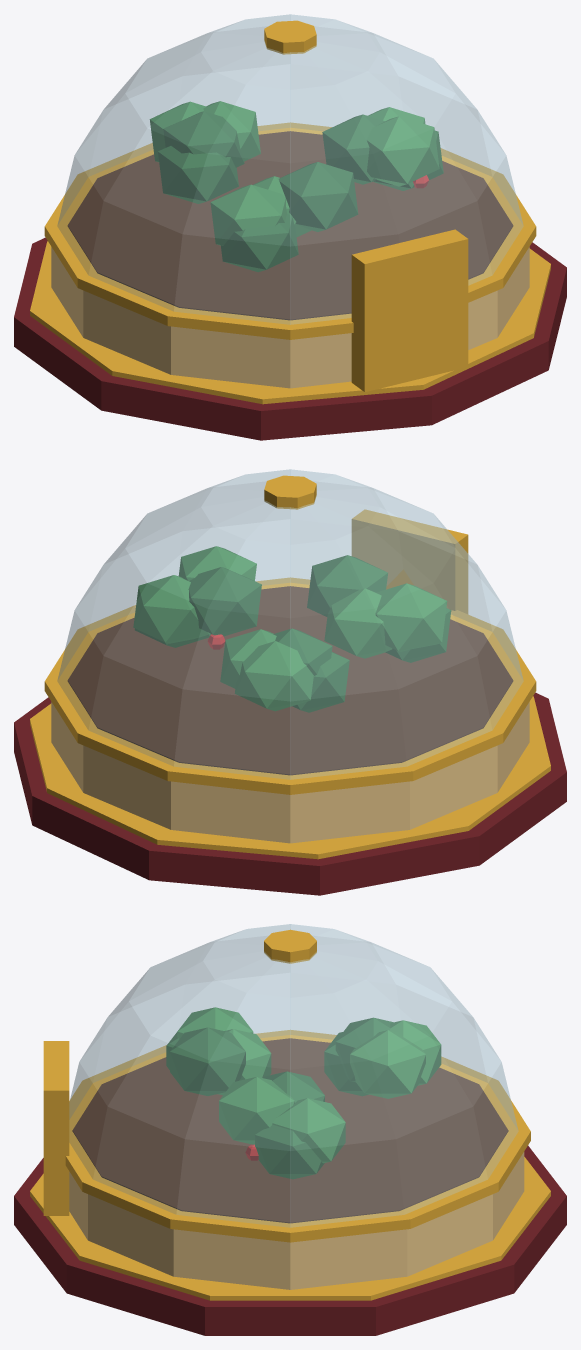
File: estufa-n1.glb
3 views of the same model, one above another, from view 1: azimuth 30°, elevation 25°; view 2: azimuth 150°, elevation 25°; view 3: azimuth 270°, elevation 25° (orthographic). The views are drawn at different scales.
Parts seen in each view (by area): view 1: estufa-n1; view 2: estufa-n1; view 3: estufa-n1.
Part boxes in pixels (<box>): estufa-n1: <box>14,14,566,440</box>; estufa-n1: <box>14,469,566,895</box>; estufa-n1: <box>14,924,566,1335</box>.
Bounding box in the file's own units: 7.42 × 4.42 × 7.8.
